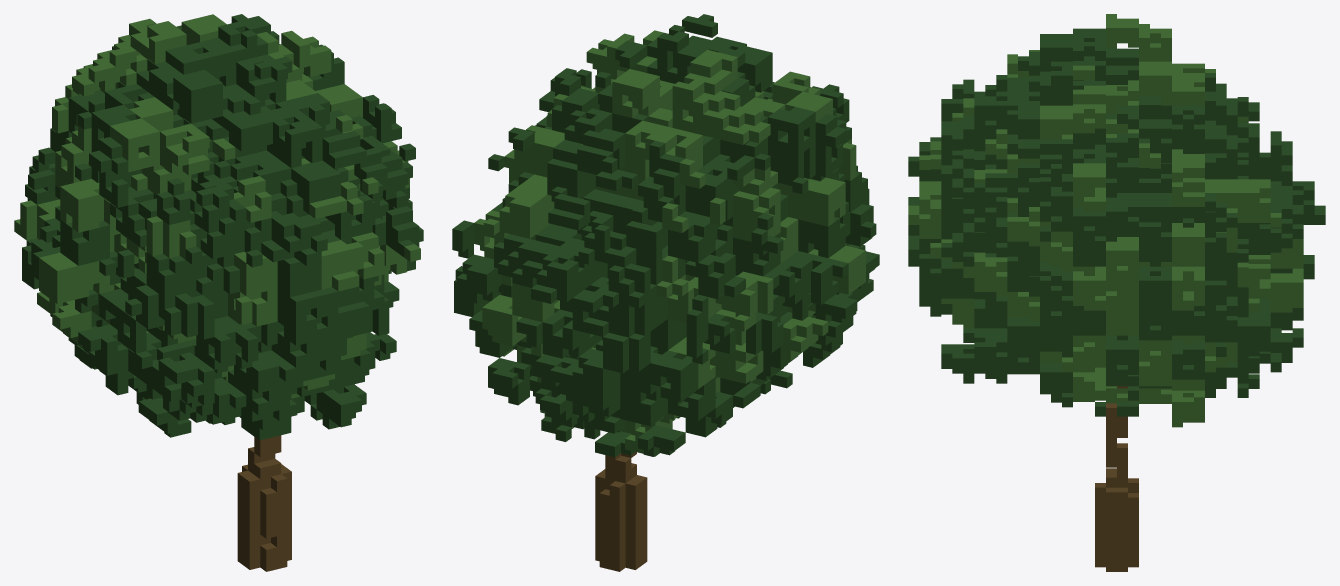
Rendered from tree_backwoods_2.obj.
3 views of the same model, side by side, from view 1: azimuth 30°, elevation 25°; view 2: azimuth 150°, elevation 25°; view 3: azimuth 270°, elevation 25° (orthographic). The views are drawn at different scales.
Bounding box in the file's own units: 2.62 × 3.75 × 2.85.
1 material, 1 textured.
